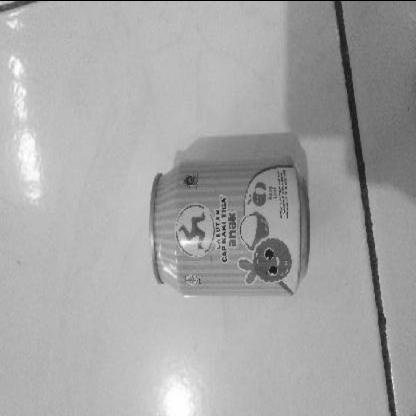alumunium_can: (146, 154, 312, 303)
